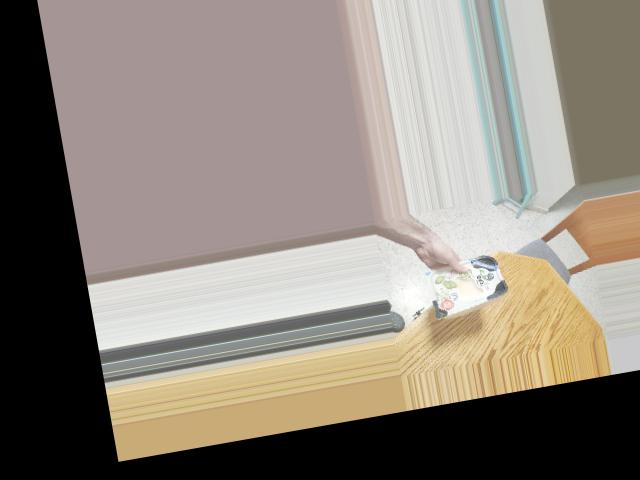cheese: (417, 238, 510, 324)
